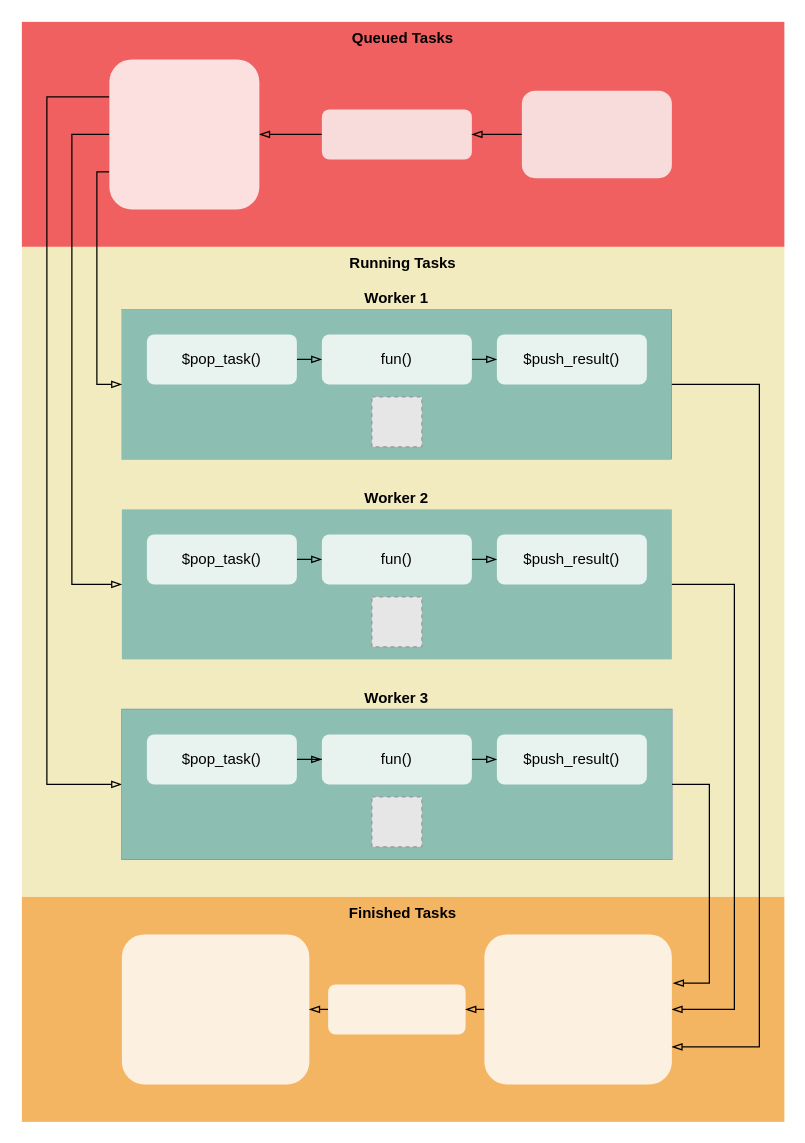
Some shapes in this 805 by 1143 pixel diagram are drawn without their labels. Grey dashed boxes stand in for pictures. Each missing label, with the centre of its shape:
"$fetch_tasks()" goes at pixel 396 1009.
"$push_tasks()" goes at pixel 396 134.
"Hashes key : x1 | x2 key : x1 | x2 key : x1 | x2 key : x1 | x2" goes at pixel 184 134.
"Hashes key : x1 | x2 | y key : x1 | x2 | y key : x1 | x2 | y key : x1 | x2 | y" goes at pixel 577 1009.
"Initialize Controller and Start Workers" goes at pixel 596 134.
"Table key | x1 | x2 | y key | x1 | x2 | y key | x1 | x2 | y key | x1 | x2 | y" goes at pixel 215 1009.
